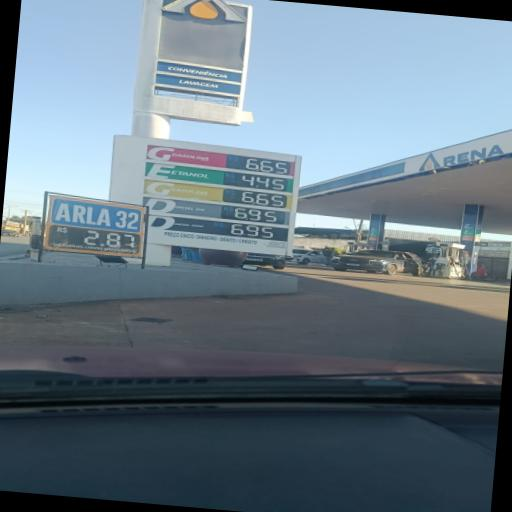ETANOL: (145, 163, 215, 184)
GASOLINA C: (146, 145, 218, 167), (146, 180, 211, 202)
S10: (145, 197, 211, 216)
S500: (149, 214, 209, 233)
placa: (141, 138, 296, 241)
preco: (241, 156, 292, 175), (226, 222, 278, 240), (239, 173, 287, 192), (236, 190, 288, 207), (235, 207, 282, 223)
